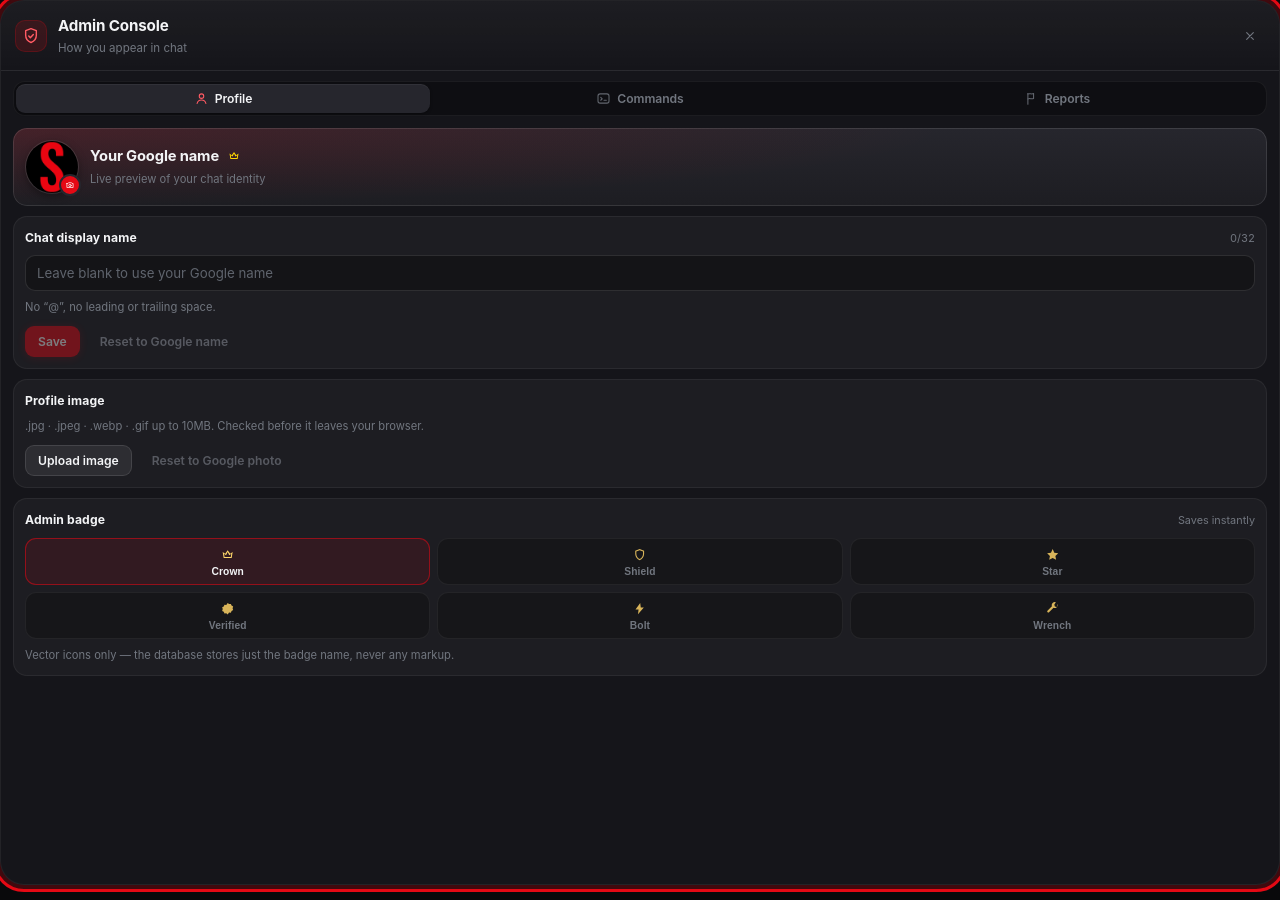
Test: GlobalChatAdminDashboard profile section: display name › writes exactly the override fields on save
Type "Nightwatch" into the field labelled "Chat display name" at [640, 273], box x1=25 y1=255 x2=1255 y2=291
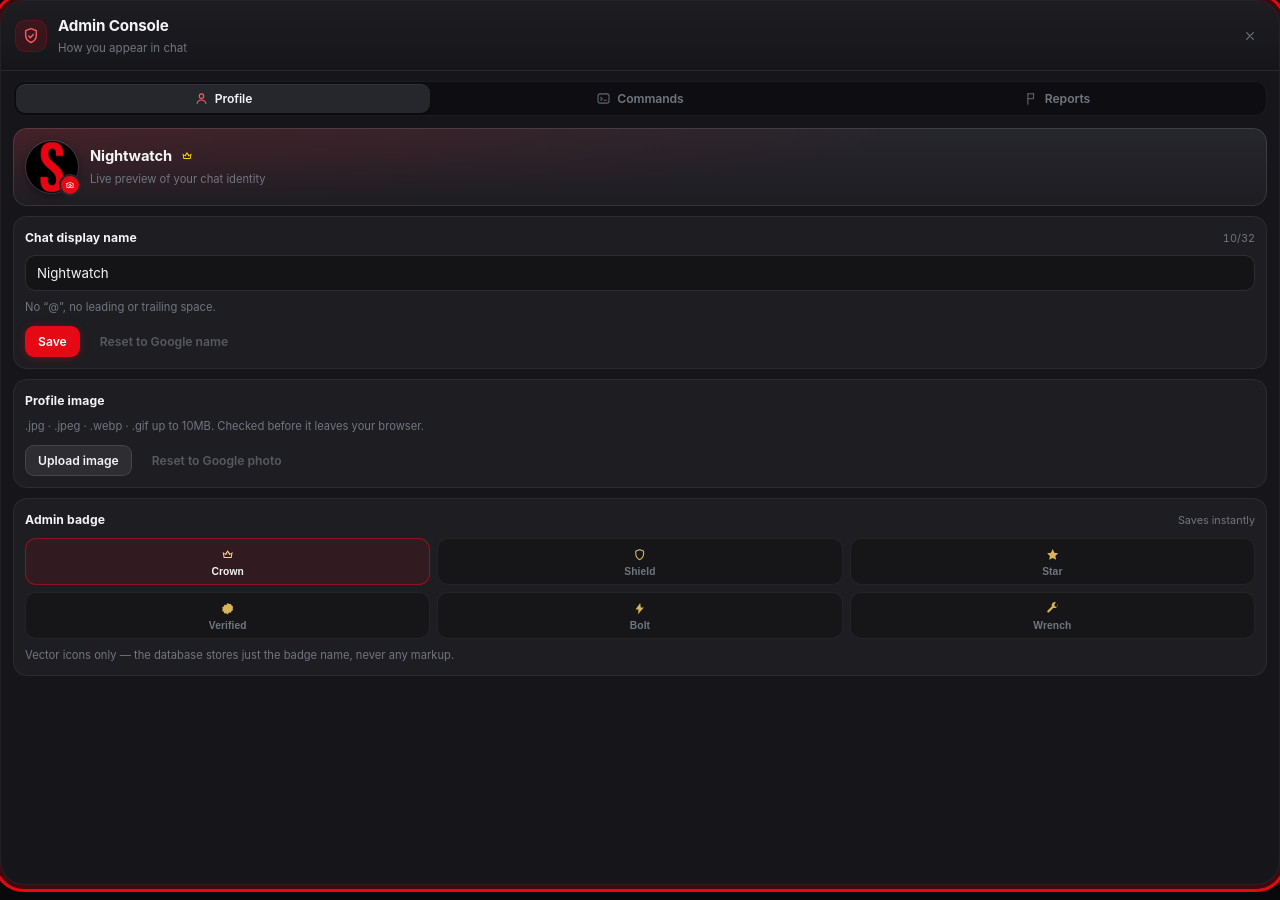
Click the button "Save" at [52, 342], box x1=25 y1=326 x2=80 y2=357
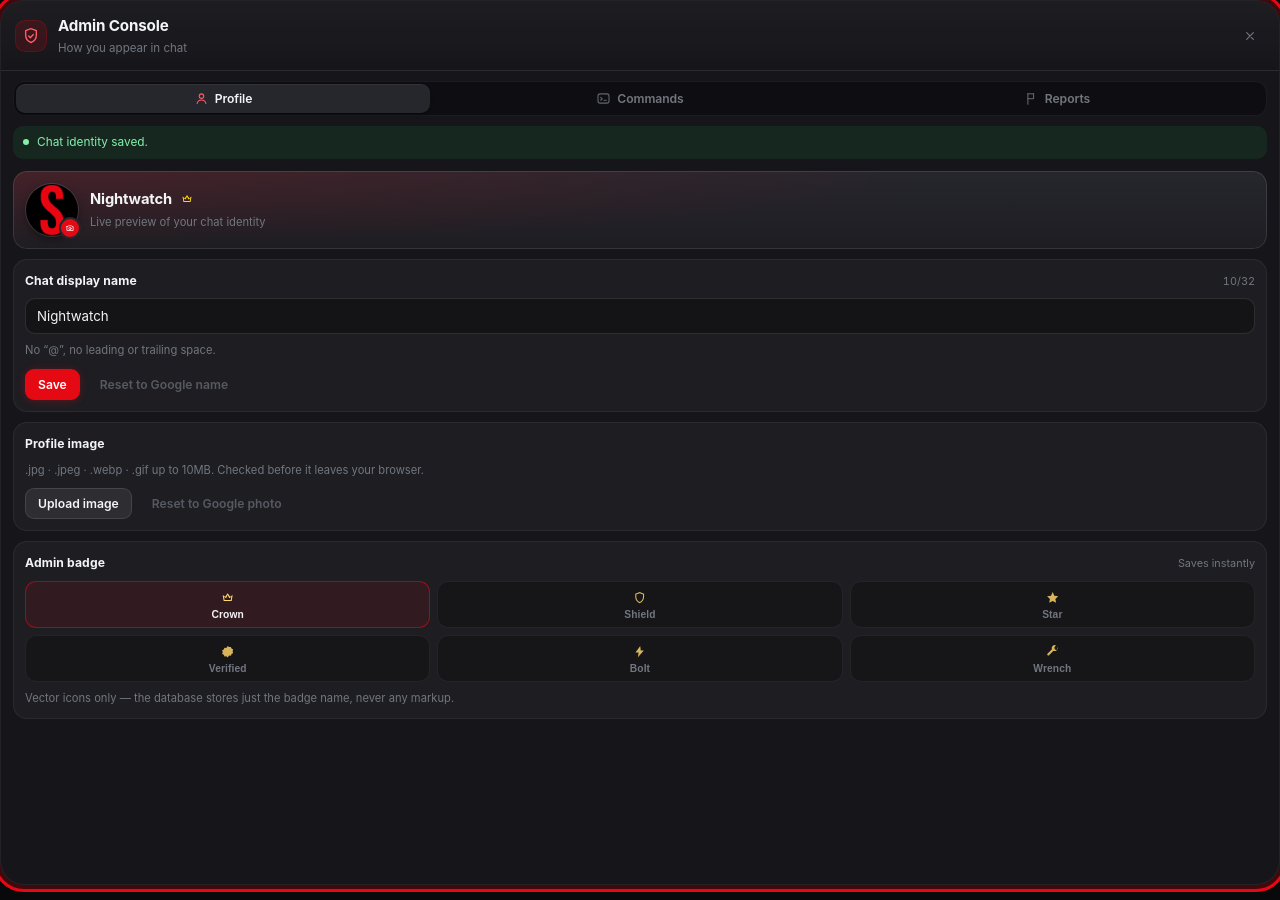
Expected: the text "Nightwatch" is shown, x1=90 y1=188 x2=172 y2=211
Expected: the text "Chat identity saved." is shown, x1=37 y1=134 x2=148 y2=151
